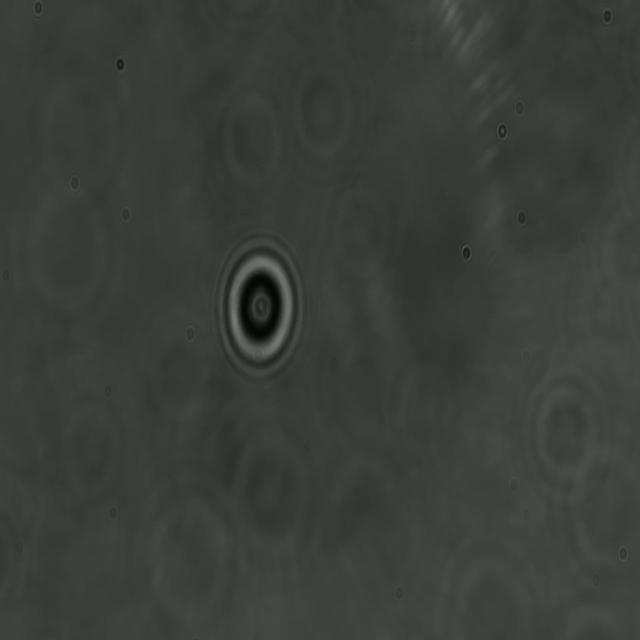LCELL: (210, 226, 308, 386)
